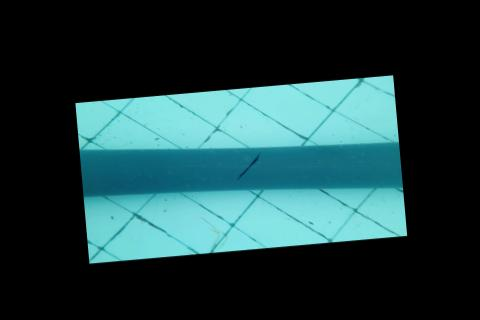keretakan: (231, 153, 265, 182)
